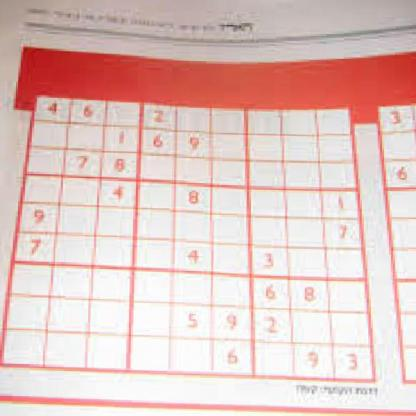sudoku: (0, 91, 382, 386)
